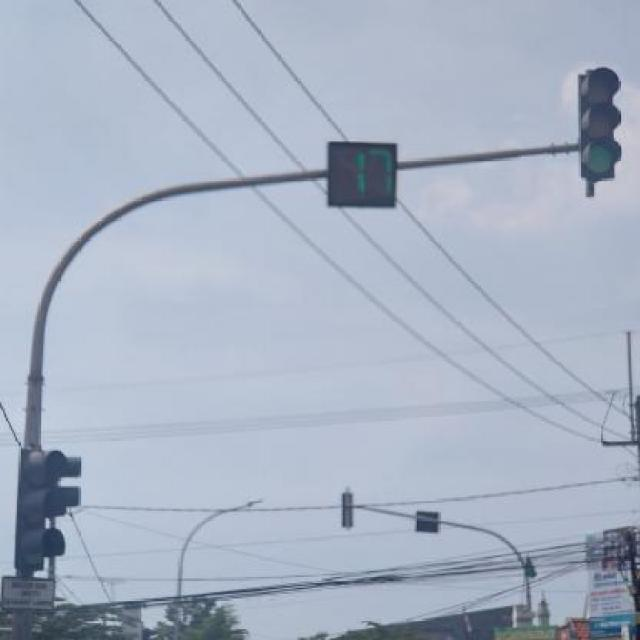traffic light: (22, 448, 68, 577), (579, 69, 619, 180)
